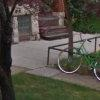Bicycle: (54, 37, 100, 86)
